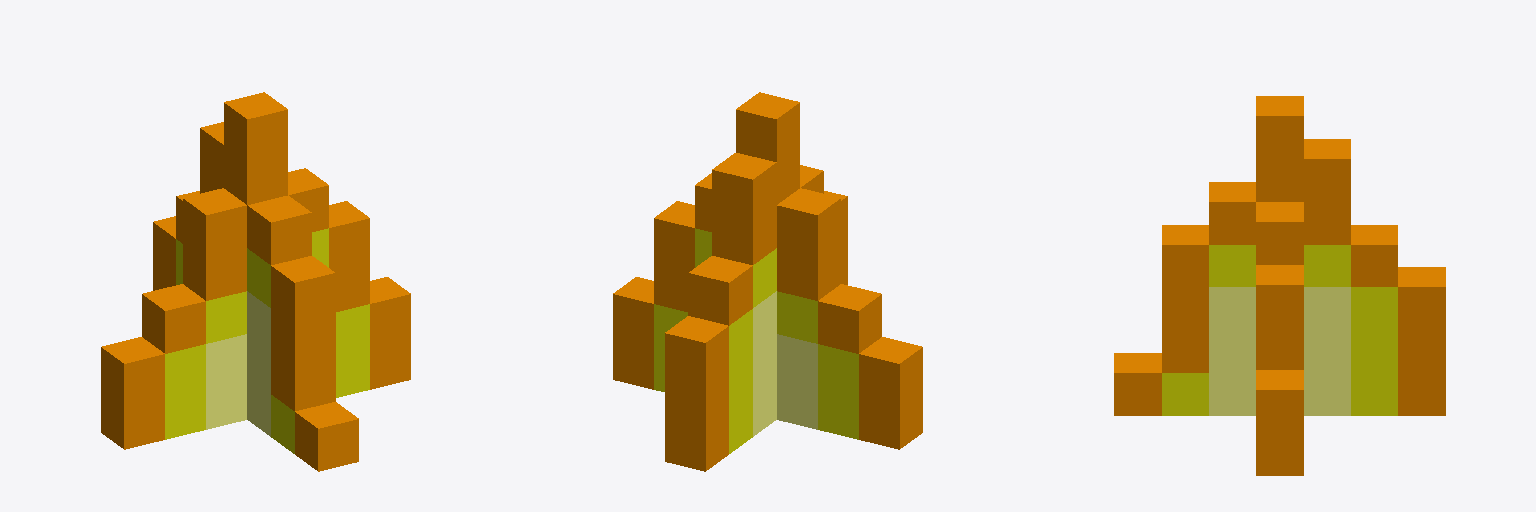
3 renders of one model, left to right at view 1: azimuth 30°, elevation 25°; view 2: azimuth 150°, elevation 25°; view 3: azimuth 270°, elevation 25°, orthographic.
Size of the model in its own units: 7 by 7 by 7.
1 materials, 1 textured.